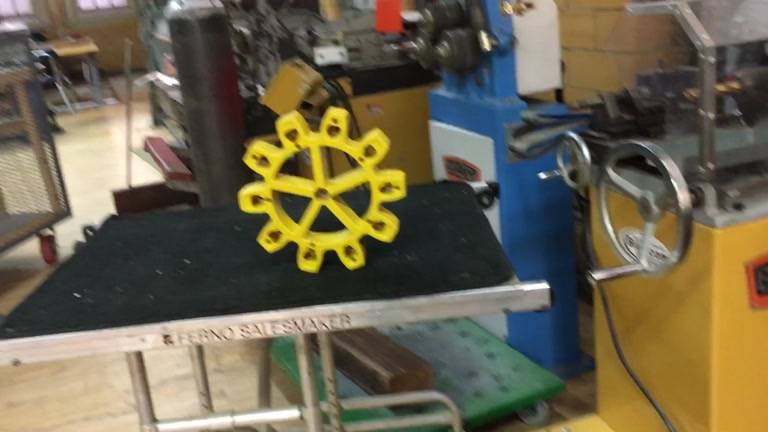gear: (235, 105, 406, 275)
